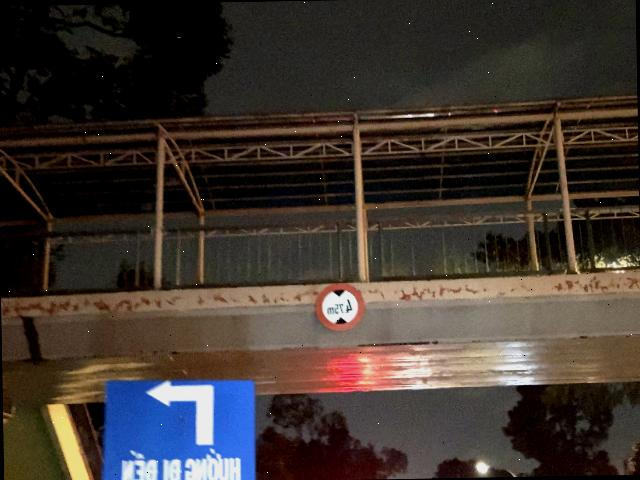han-che-chieu-cao: (316, 281, 364, 331)
